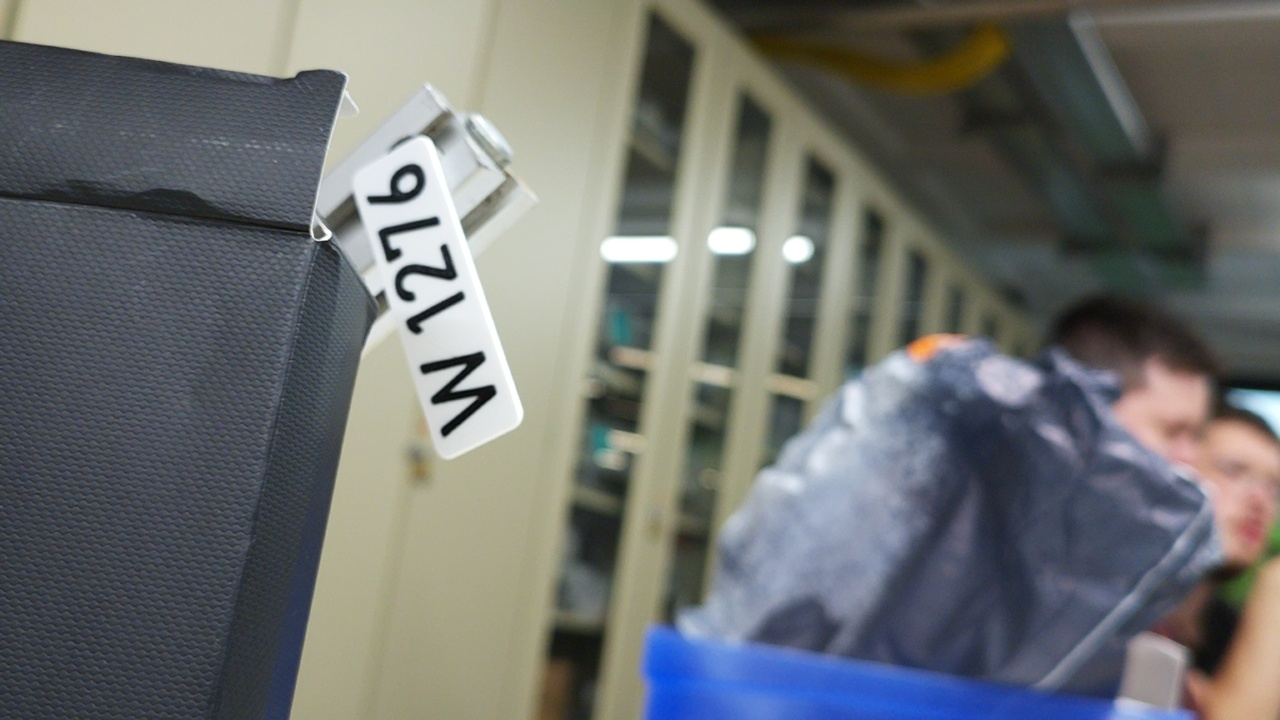license_plate: (350, 133, 526, 463)
